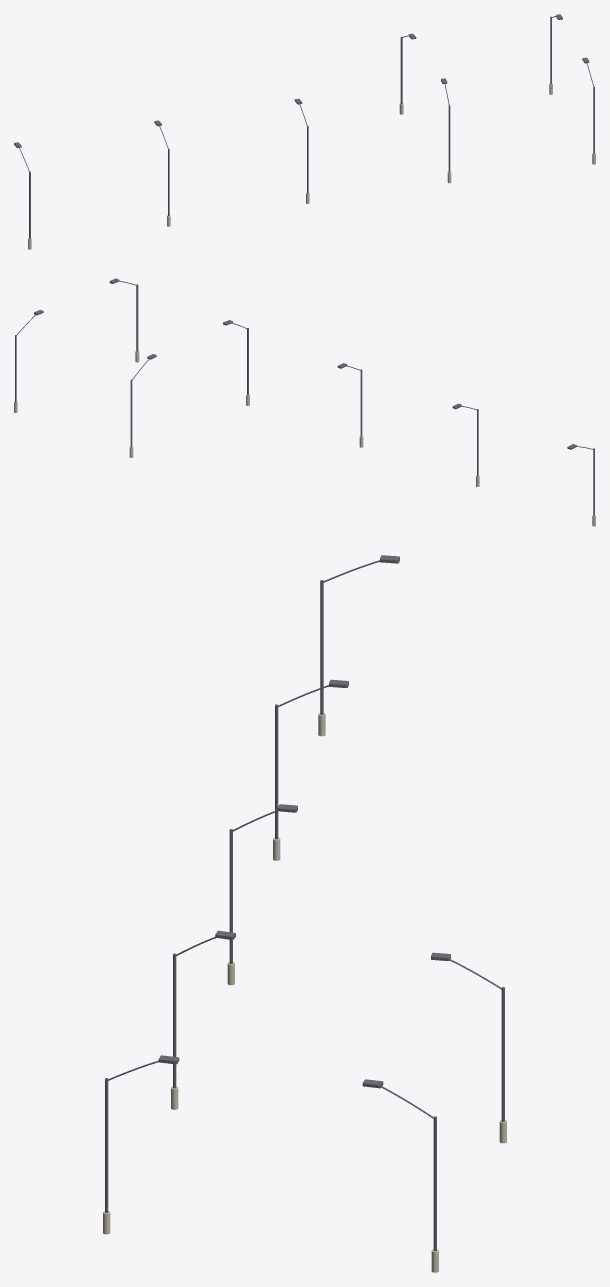
The picture shows the model from 3 angles, top to bottom: view 1: azimuth 30°, elevation 25°; view 2: azimuth 150°, elevation 25°; view 3: azimuth 270°, elevation 25°; orthographic projection. The views are drawn at different scales.
Parts seen in each view (by area): view 1: buildings_s_-4_1_Dark_Metal, buildings_s_-4_1_Warm_Limestone; view 2: buildings_s_-4_1_Dark_Metal, buildings_s_-4_1_Warm_Limestone; view 3: buildings_s_-4_1_Dark_Metal, buildings_s_-4_1_Warm_Limestone.
Part boxes in pixels (left/top/right/bottom): buildings_s_-4_1_Dark_Metal: left=14, top=14, right=594, bottom=238; buildings_s_-4_1_Warm_Limestone: left=28, top=83, right=595, bottom=249; buildings_s_-4_1_Dark_Metal: left=15, top=278, right=594, bottom=515; buildings_s_-4_1_Warm_Limestone: left=14, top=351, right=595, bottom=526; buildings_s_-4_1_Dark_Metal: left=105, top=555, right=504, bottom=1251; buildings_s_-4_1_Warm_Limestone: left=103, top=713, right=506, bottom=1272.
Size of the model in its own units: 113 by 17.75 by 35.67.
